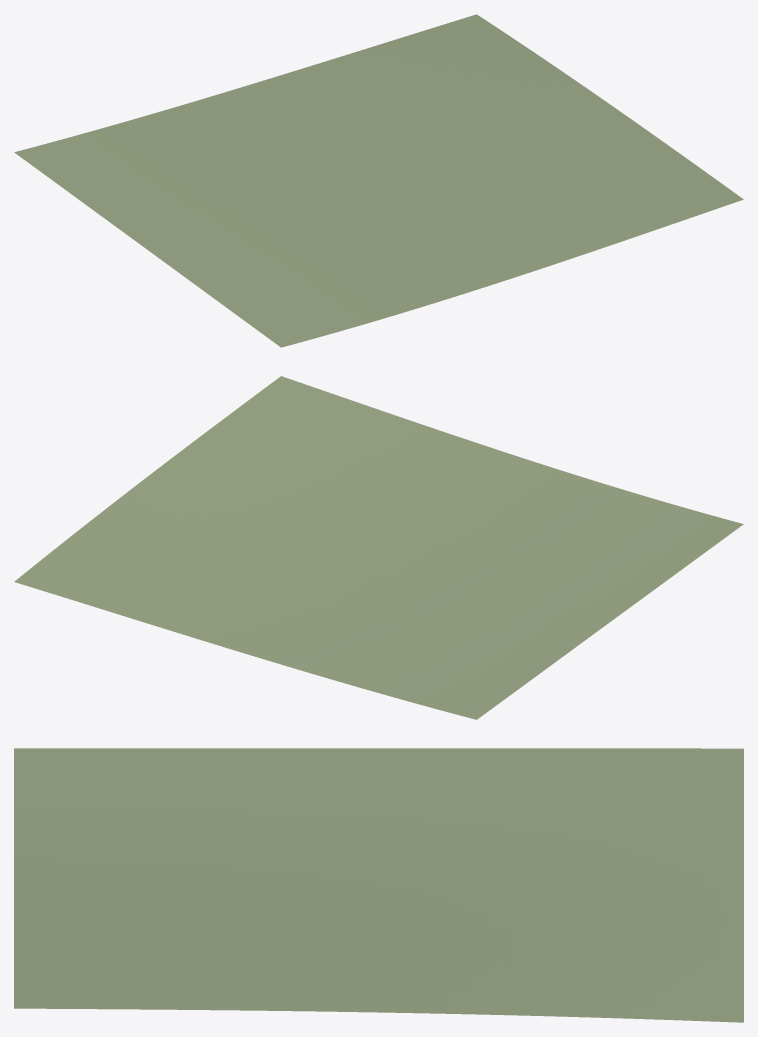
The model's file is valley-9-9.glb.
3 renders of one model, top to bottom at view 1: azimuth 30°, elevation 25°; view 2: azimuth 150°, elevation 25°; view 3: azimuth 270°, elevation 25°, orthographic. The views are drawn at different scales.
Visible parts, largest first — view 1: valley-9-9; view 2: valley-9-9; view 3: valley-9-9.
Part boxes in pixels (left/top/right/bottom): valley-9-9: left=14, top=14, right=743, bottom=347; valley-9-9: left=14, top=376, right=743, bottom=719; valley-9-9: left=14, top=748, right=743, bottom=1022.
Bounding box in the file's own units: 256 × 18.73 × 256.
